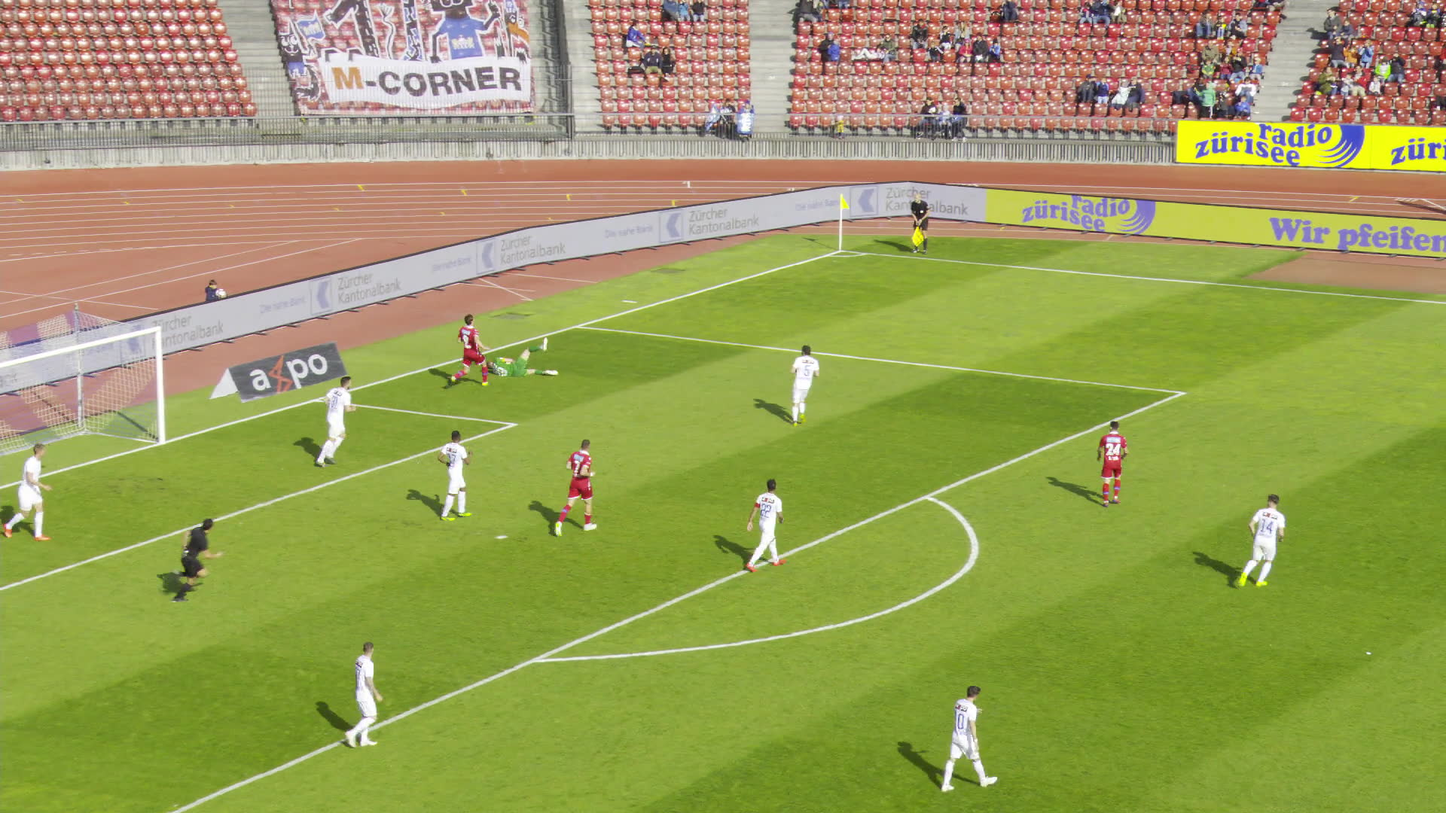player: (335, 640, 390, 749), (939, 685, 993, 791), (5, 443, 53, 540), (1240, 493, 1285, 591), (307, 377, 354, 467), (554, 440, 597, 535), (435, 430, 477, 521), (447, 309, 493, 391), (746, 477, 786, 570), (1097, 420, 1130, 506), (484, 340, 556, 378), (791, 345, 822, 425)
referee: (143, 513, 215, 600), (911, 193, 931, 254)
